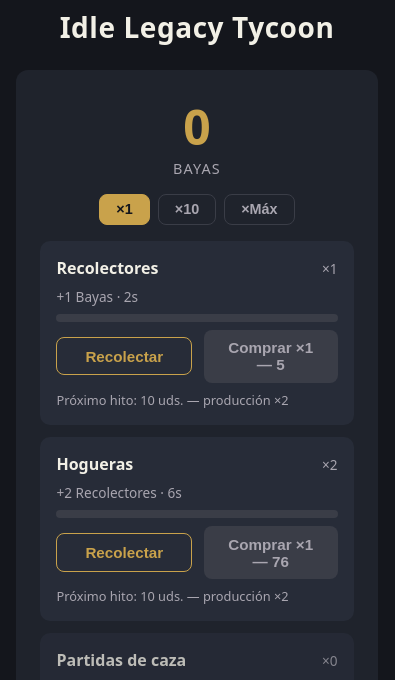
it: App › cadena: el ciclo de Hogueras produce Recolectores, no Bayas
Click the button with aria-label "Recolectar Hogueras" at (124, 553), box [56,534,192,572]
Wait 6000 ms
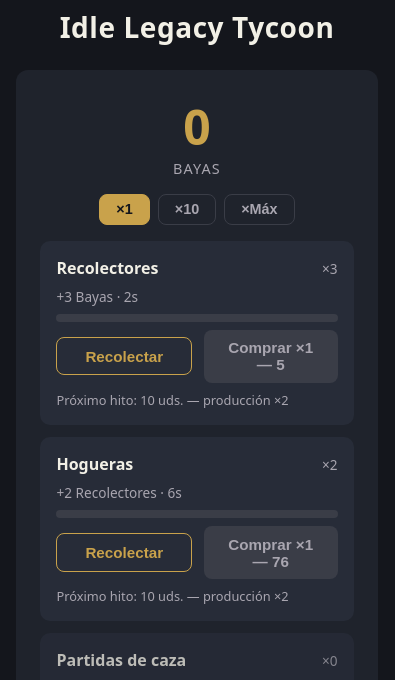
expect the text named "Bayas" reads "0": met, box [183,94,211,159]
expect the text "×3" is shown: met, box [322,259,338,278]
